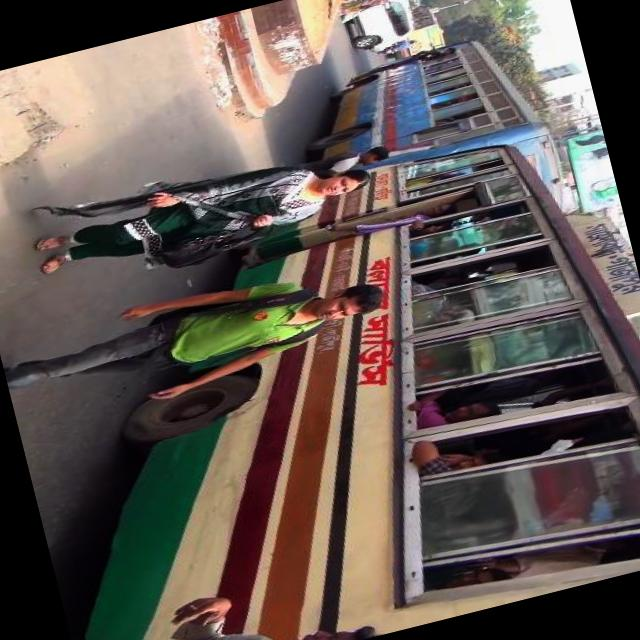bus: (0, 111, 640, 640), (285, 22, 575, 274), (365, 0, 449, 66)
car: (336, 0, 417, 57)
motorcycle: (383, 39, 406, 56)
